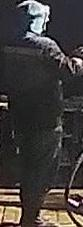vest: (1, 34, 65, 134)
